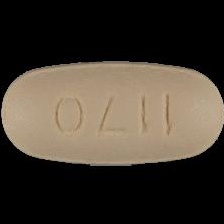0406-1170: (0, 0, 224, 224)
